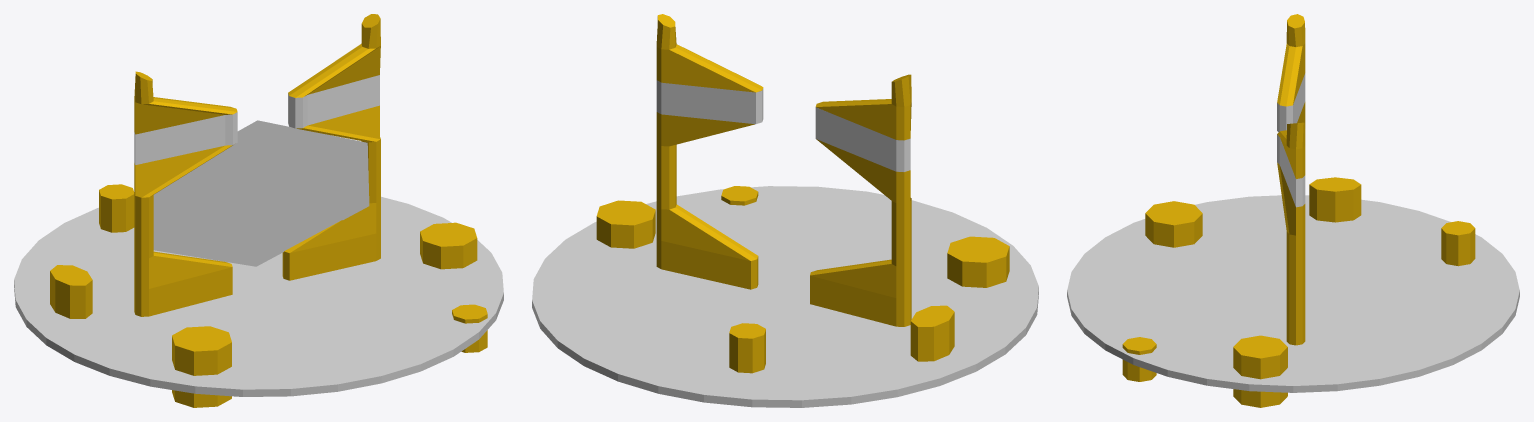
The model's file is portaltest3.glb.
3 renders of one model, left to right at view 1: azimuth 30°, elevation 25°; view 2: azimuth 150°, elevation 25°; view 3: azimuth 270°, elevation 25°, orthographic. The views are drawn at different scales.
Visible parts, largest first — view 1: Circle, portal, screnn, Cylinder.001, Cylinder.002, Cylinder, Cylinder.004, Cylinder.003; view 2: Circle, portal, Cylinder.001, Cylinder.002, Cylinder, Cylinder.004, Cylinder.003; view 3: Circle, portal, Cylinder.002, Cylinder.001, Cylinder, Cylinder.004, Cylinder.003.
Boxes of the visible parts, <box> form: Circle: <box>14,196,503,396</box>; portal: <box>134,14,380,316</box>; screnn: <box>153,120,369,266</box>; Cylinder.001: <box>172,326,231,407</box>; Cylinder.002: <box>420,222,477,269</box>; Cylinder: <box>50,265,92,318</box>; Cylinder.004: <box>99,184,134,232</box>; Cylinder.003: <box>452,304,487,352</box>; Circle: <box>532,186,1038,407</box>; portal: <box>656,14,911,326</box>; Cylinder.001: <box>947,236,1009,287</box>; Cylinder.002: <box>596,200,655,248</box>; Cylinder: <box>910,305,954,361</box>; Cylinder.004: <box>729,323,765,373</box>; Cylinder.003: <box>721,186,758,205</box>; Circle: <box>1067,195,1519,392</box>; portal: <box>1277,14,1305,345</box>; Cylinder.002: <box>1233,335,1287,407</box>; Cylinder.001: <box>1145,201,1202,247</box>; Cylinder: <box>1309,177,1361,222</box>; Cylinder.004: <box>1441,221,1475,266</box>; Cylinder.003: <box>1122,337,1156,381</box>.
Size of the model in its own units: 10.29 by 6.31 by 10.29.
